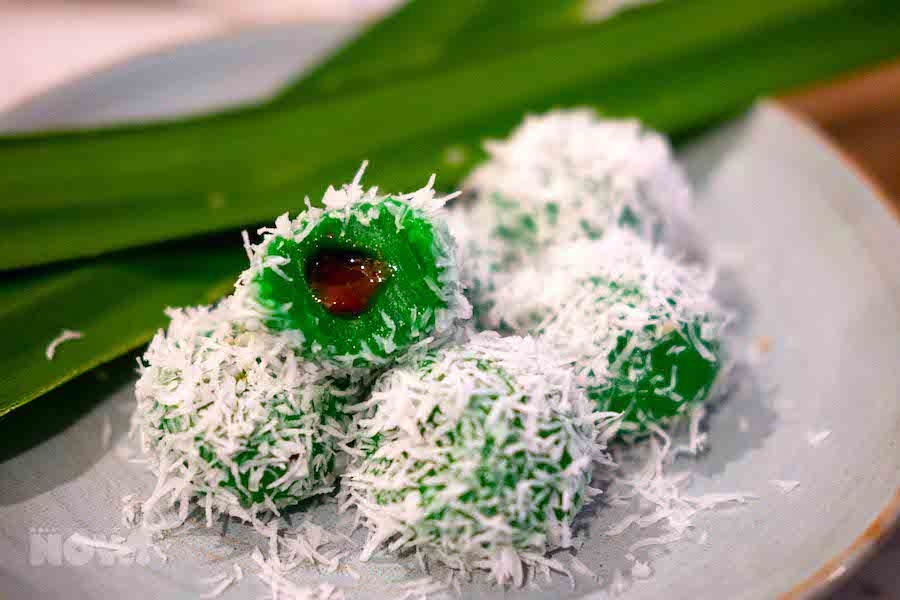klepon: (165, 150, 475, 368)
